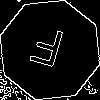F: (25, 25, 67, 77)
